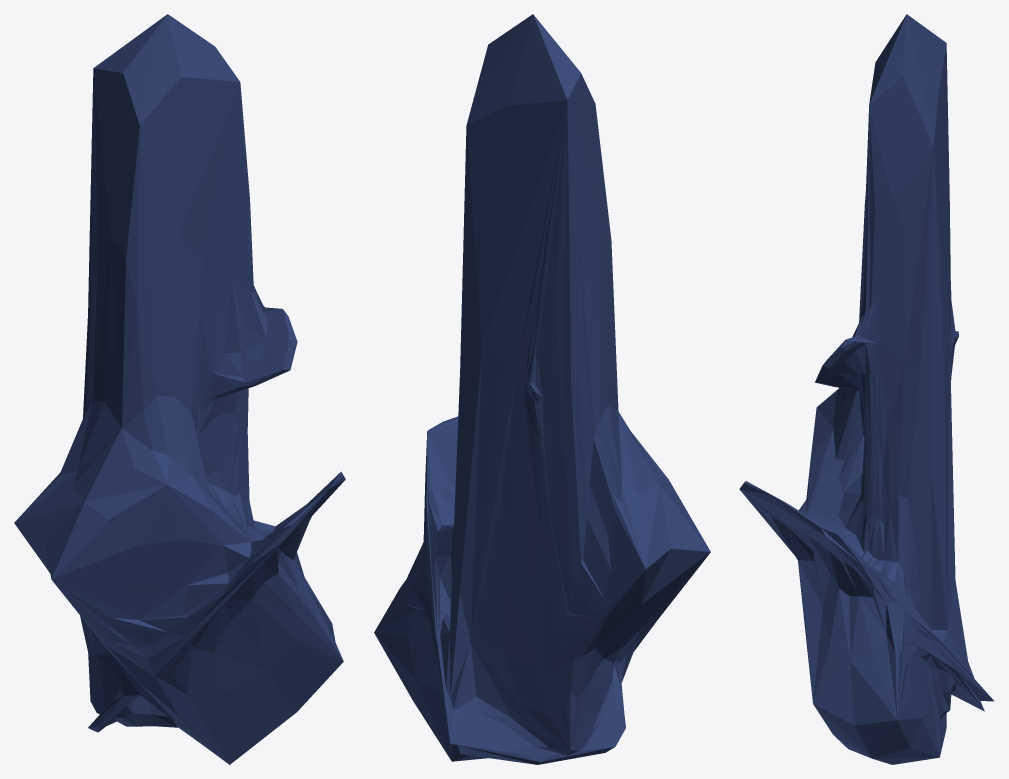
3 views of the same model, side by side, from view 1: azimuth 30°, elevation 25°; view 2: azimuth 150°, elevation 25°; view 3: azimuth 270°, elevation 25° (orthographic). The views are drawn at different scales.
Parts seen in each view (by area): view 1: 709_Cube.2849; view 2: 709_Cube.2849; view 3: 709_Cube.2849.
Boxes of the visible parts, left/top/right/bottom form: 709_Cube.2849: left=14, top=14, right=345, bottom=764; 709_Cube.2849: left=374, top=14, right=710, bottom=764; 709_Cube.2849: left=739, top=14, right=994, bottom=764.
Size of the model in its own units: 5.52 by 12.78 by 4.11.
